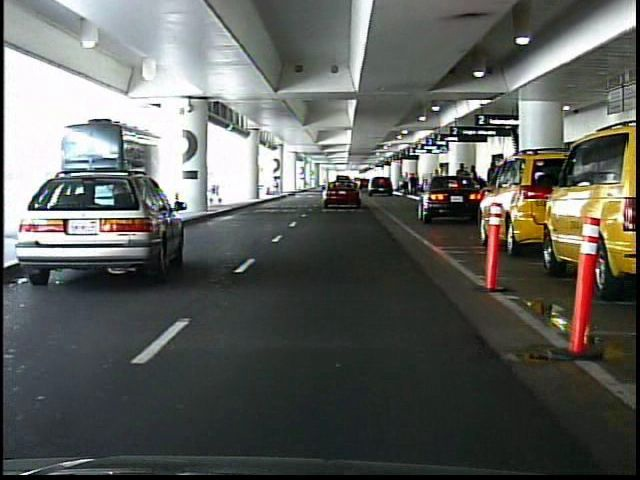person: (454, 162, 472, 205), (467, 164, 481, 205), (402, 172, 411, 196), (410, 173, 417, 197)
